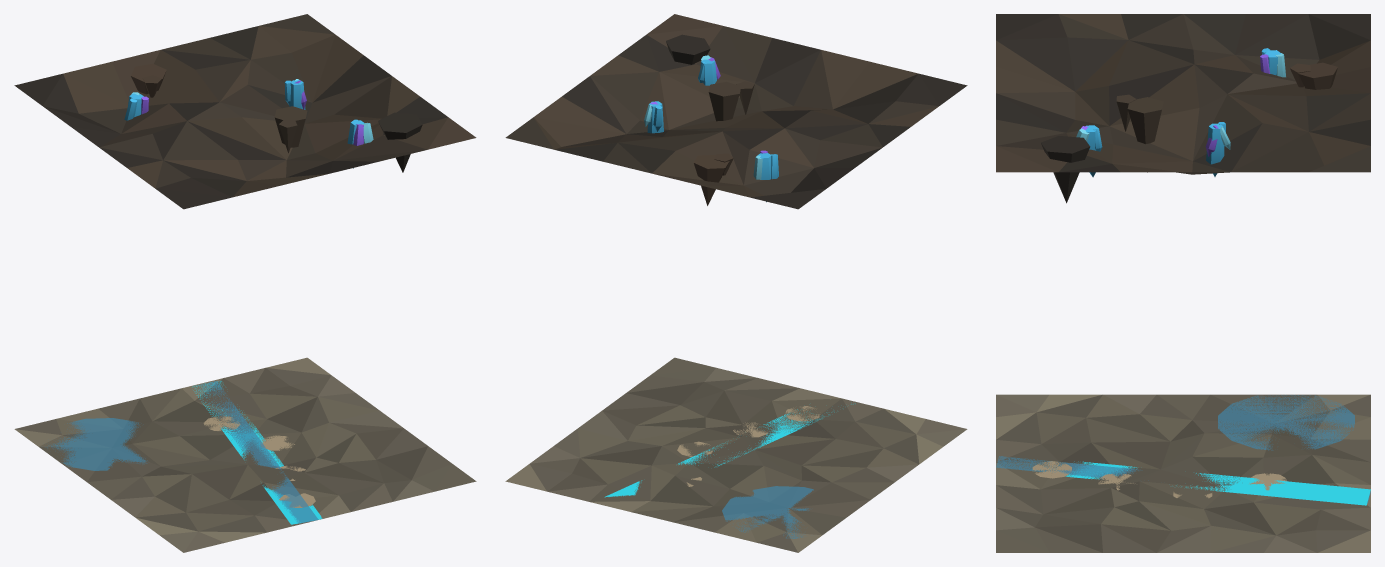
The model's file is floor_c.fbx.
3 renders of one model, left to right at view 1: azimuth 30°, elevation 25°; view 2: azimuth 150°, elevation 25°; view 3: azimuth 270°, elevation 25°, orthographic. The views are drawn at different scales.
Parts seen in each view (by area): view 1: Ceiling, floor_c; view 2: Ceiling, floor_c; view 3: Ceiling, floor_c.
Part boxes in pixels (left/top/right/bottom): Ceiling: left=14, top=14, right=476, bottom=209; floor_c: left=14, top=357, right=476, bottom=552; Ceiling: left=505, top=14, right=967, bottom=209; floor_c: left=505, top=357, right=967, bottom=552; Ceiling: left=996, top=14, right=1370, bottom=203; floor_c: left=996, top=394, right=1370, bottom=552.
Size of the model in its own units: 4 by 4.54 by 4.
